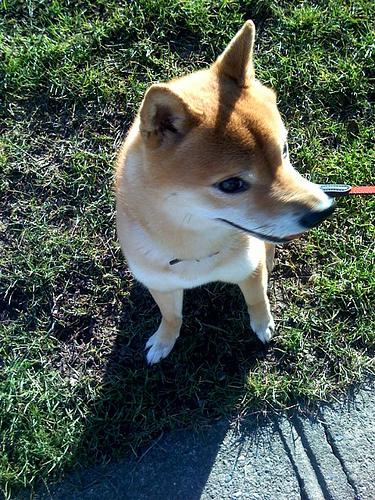dog-shiba_inu: (138, 19, 335, 241)
